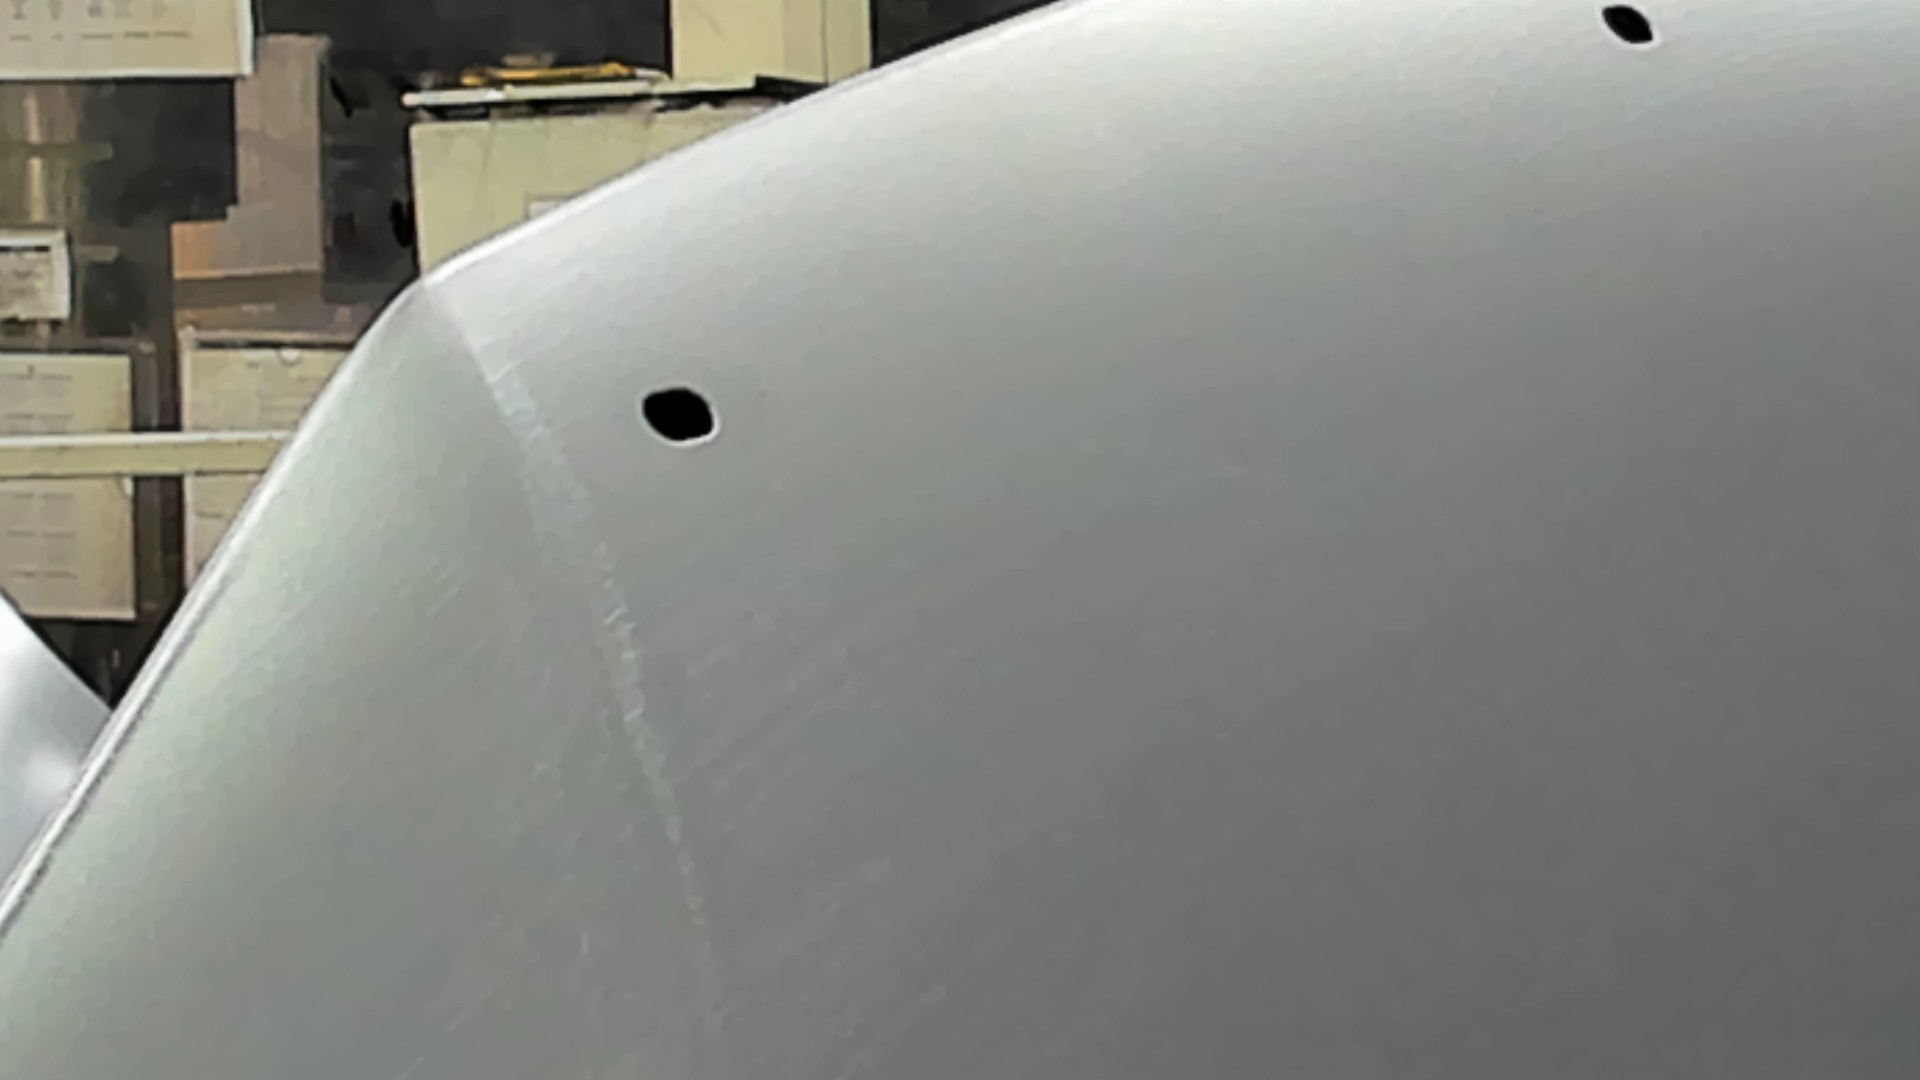amorfo: (636, 377, 721, 448), (1596, 1, 1660, 54)
capo: (831, 157, 1920, 1080)
